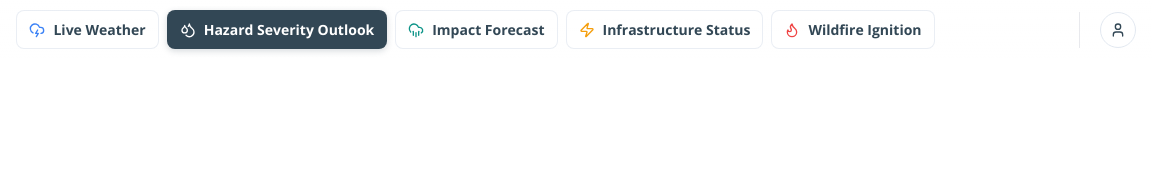
Test: TabNavigation › signed-in user bar › offers no admin action for regular members
The image size is (1152, 177).
Click the button named "Account and sign out".
click(1118, 30)  # box [1100,12,1136,48]
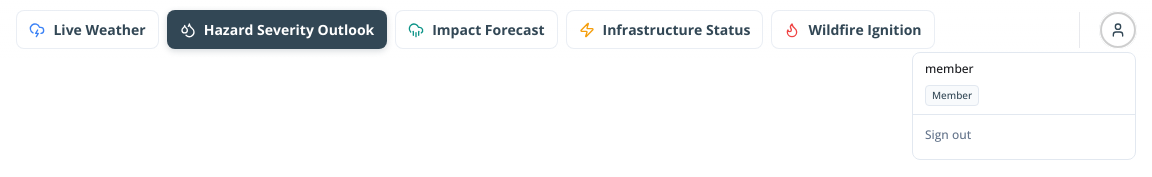
Expected: the number of menu items is 1, [913,118,1135,150]
